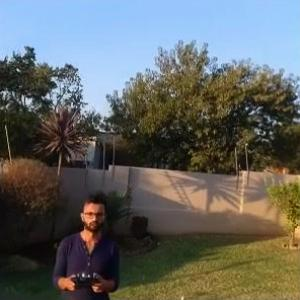follow: (52, 187, 124, 299)
